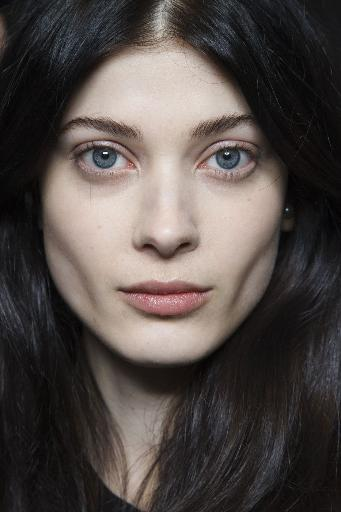left_eye: (196, 142, 261, 184)
left_lip_corner: (204, 280, 219, 305)
right_eye: (70, 143, 136, 181)
right_lip_corner: (113, 280, 131, 306)
